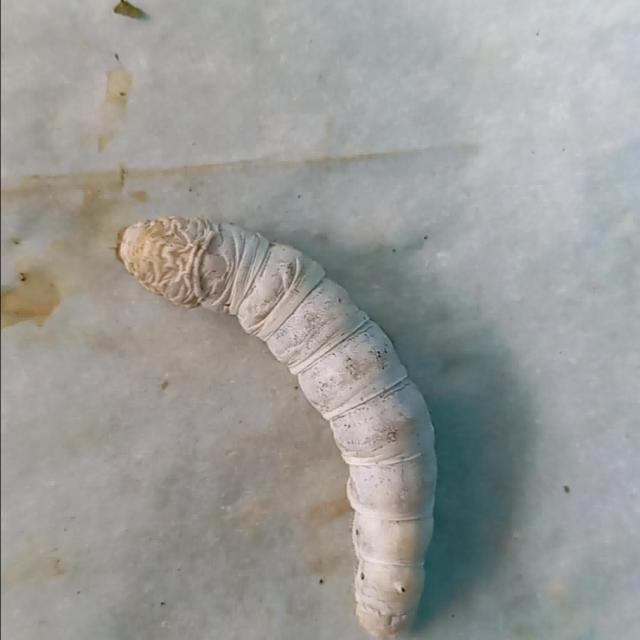Grasserie: (104, 202, 474, 640)
